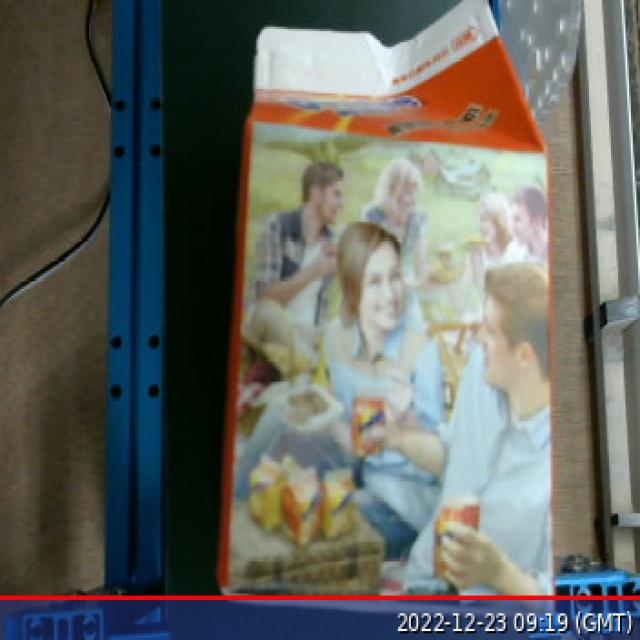non_white_jug: (226, 0, 586, 635)
